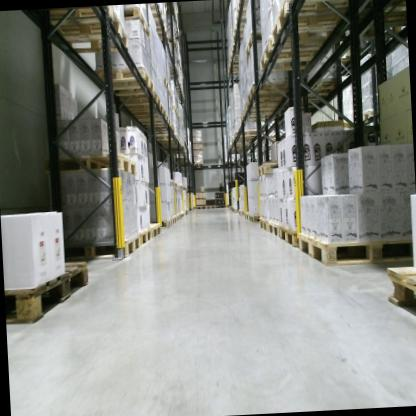pallet: (4, 259, 94, 327), (297, 226, 413, 268), (44, 7, 131, 61), (267, 0, 356, 47), (45, 149, 138, 181), (61, 230, 141, 262), (257, 34, 316, 76), (94, 66, 155, 100), (386, 264, 416, 318), (247, 79, 298, 104), (121, 6, 152, 41), (298, 77, 342, 101), (118, 90, 161, 113), (162, 37, 178, 91), (127, 101, 166, 122), (239, 105, 280, 124), (276, 220, 300, 249), (242, 95, 279, 113), (243, 31, 265, 61), (287, 0, 356, 9), (148, 4, 167, 32), (142, 112, 171, 129), (151, 25, 172, 47), (142, 119, 175, 133), (256, 157, 279, 175), (232, 127, 261, 139), (265, 218, 281, 239), (138, 224, 152, 248), (359, 109, 378, 126), (231, 13, 248, 32), (230, 29, 249, 43), (235, 0, 259, 11), (148, 221, 161, 240), (153, 218, 172, 230), (257, 216, 269, 234), (248, 210, 264, 223), (237, 208, 246, 216), (168, 176, 174, 188), (243, 211, 250, 221), (215, 203, 225, 210), (168, 86, 173, 100), (205, 203, 216, 209), (171, 215, 177, 226), (176, 181, 183, 190), (196, 204, 206, 210), (173, 179, 179, 189), (193, 161, 202, 166), (175, 213, 179, 220), (180, 211, 184, 217), (178, 213, 181, 220)
